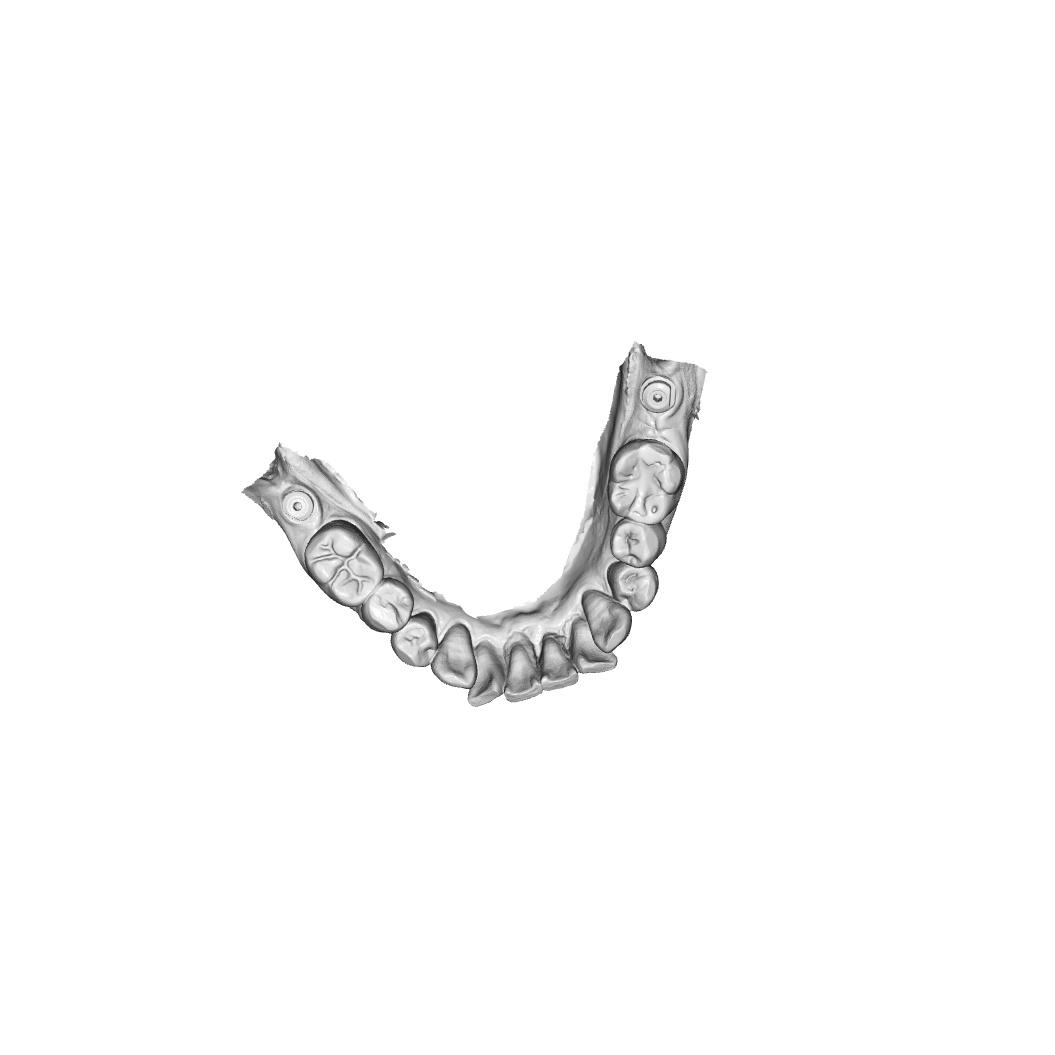canine: (580, 588, 633, 652), (431, 619, 477, 691)
implant: (636, 373, 680, 416), (279, 486, 319, 526)
incisor: (567, 617, 620, 676), (500, 639, 542, 705), (465, 638, 504, 709), (535, 637, 579, 694)
molar: (301, 517, 386, 609), (604, 437, 687, 527)
premolar: (360, 575, 415, 634), (607, 515, 668, 567), (605, 560, 661, 614), (389, 612, 441, 669)
